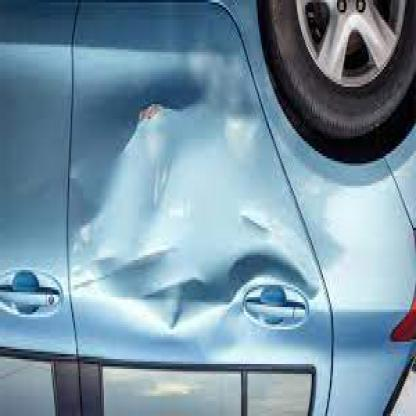dent: (116, 76, 202, 164), (144, 269, 226, 344), (71, 206, 100, 252), (240, 208, 274, 238)
